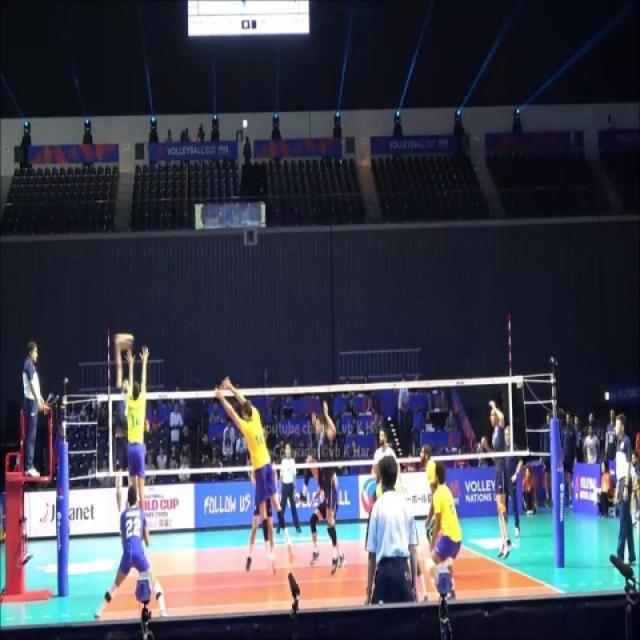volleyball: (114, 333, 135, 351)
